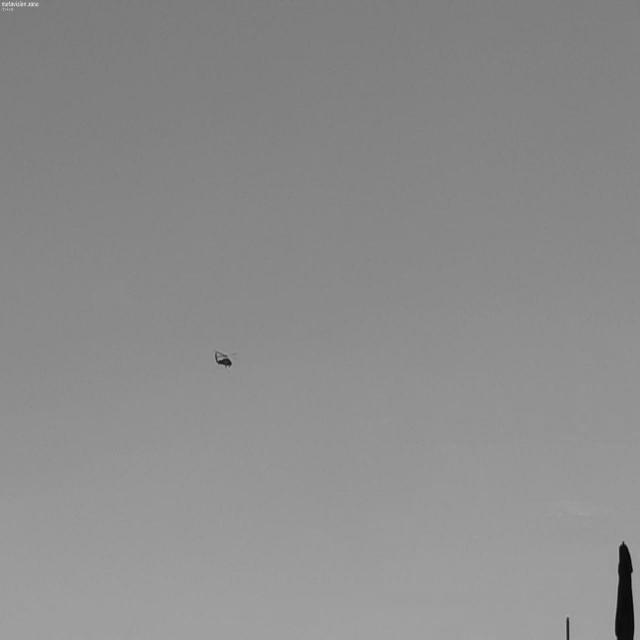helikopter: (194, 292, 278, 412)
